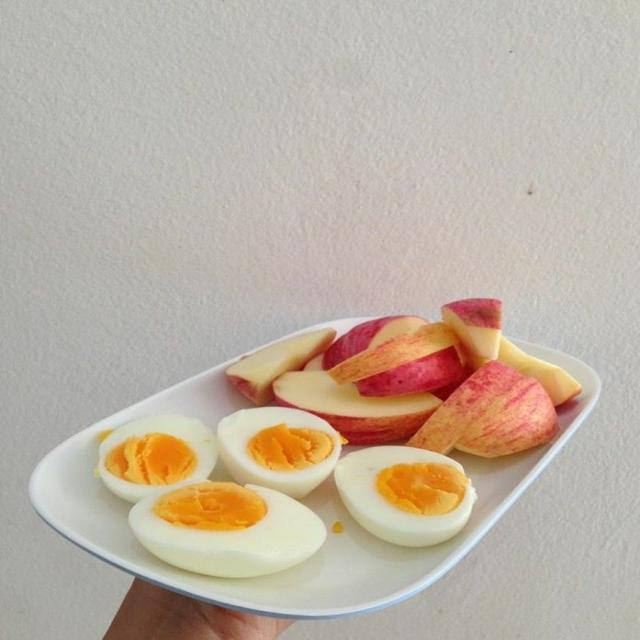eggs: (94, 416, 456, 563)
